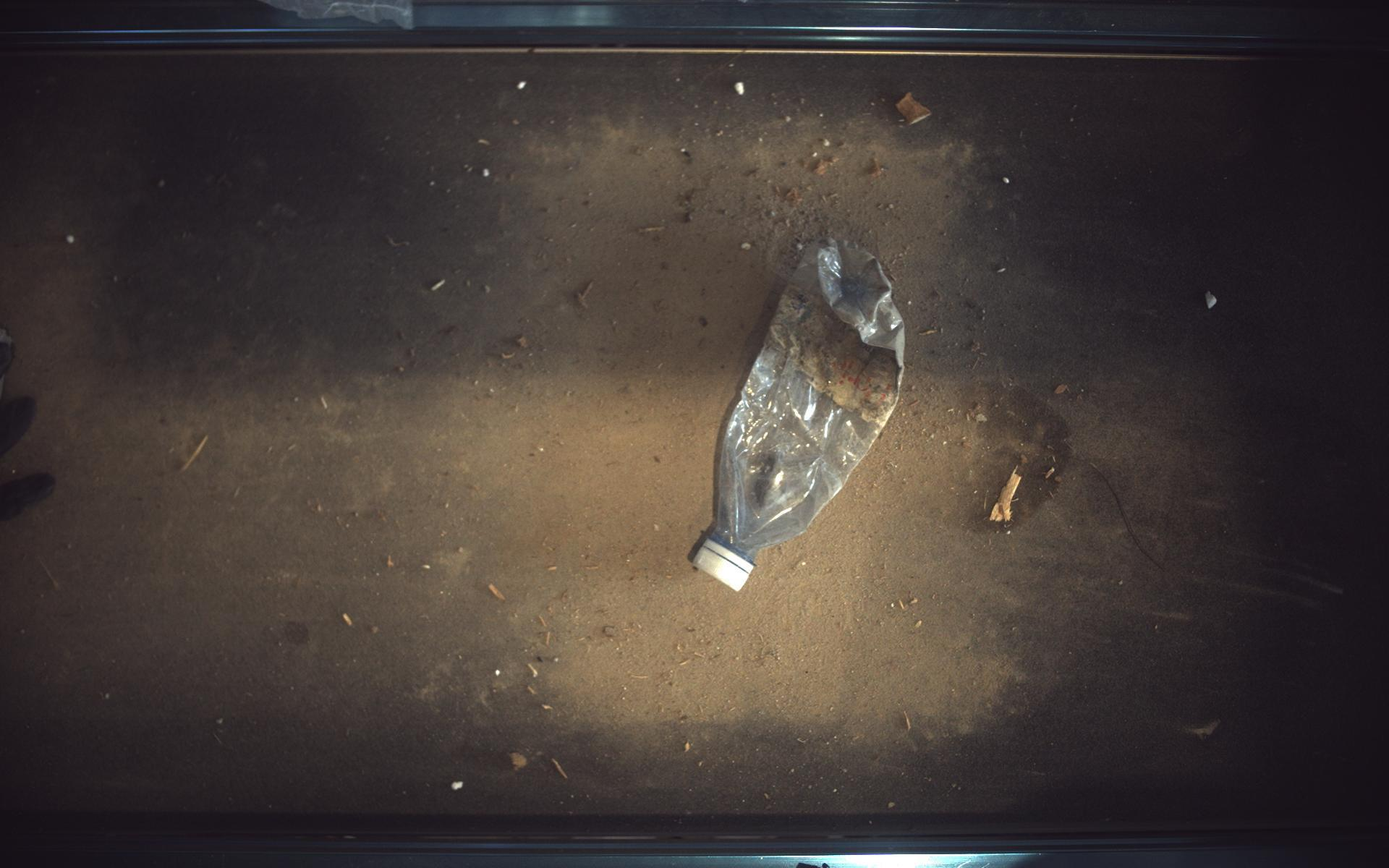general_w: (693, 239, 906, 591)
